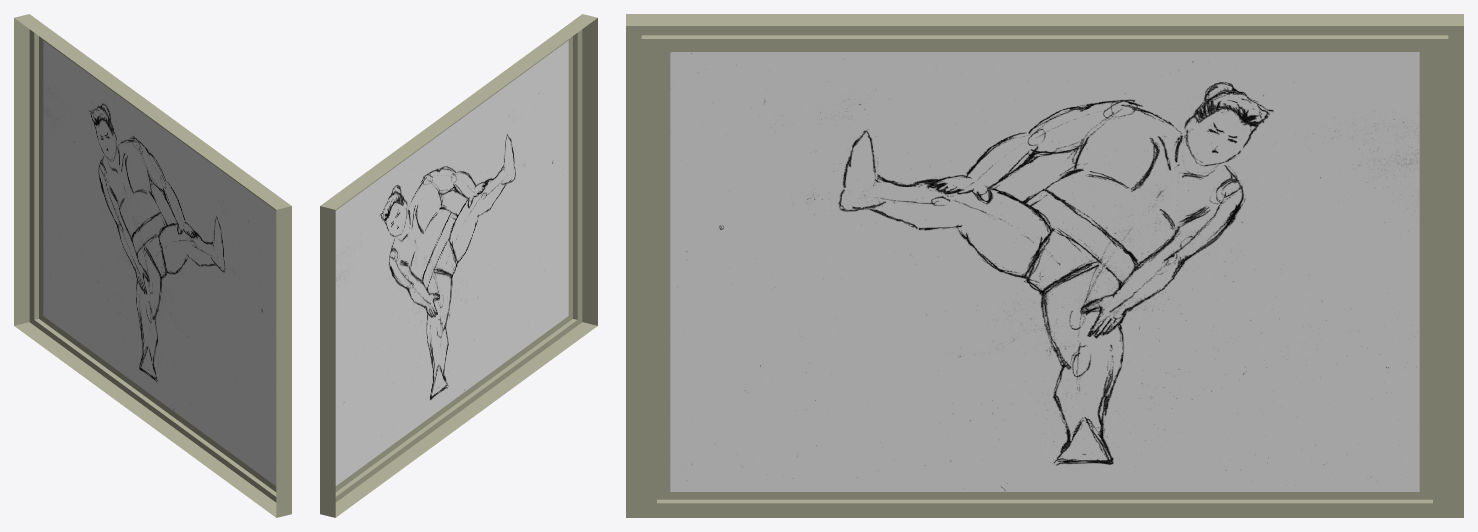
File: fjsw_picture.gltf
The picture shows the model from 3 angles, left to right: view 1: azimuth 30°, elevation 25°; view 2: azimuth 150°, elevation 25°; view 3: azimuth 270°, elevation 25°; orthographic projection. The views are drawn at different scales.
Parts seen in each view (by area): view 1: Gym; view 2: Gym; view 3: Gym.
Part boxes in pixels (x1,y1,x2,y2): Gym: (14,14,291,517); Gym: (320,14,597,517); Gym: (626,14,1463,517).
Size of the model in its own units: 0.0332 by 0.4834 by 0.7463.
Materials: 2 (1 with a texture image).
